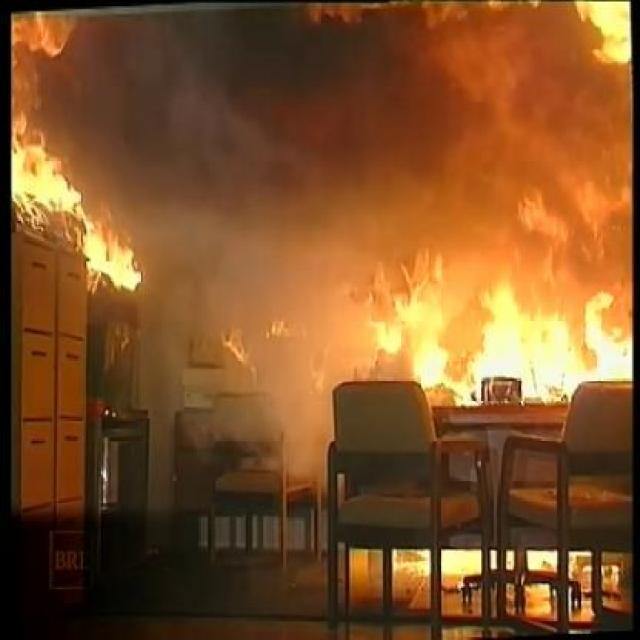fire: (348, 216, 597, 390), (8, 25, 108, 204)
smoke: (131, 49, 294, 306), (164, 283, 308, 442)
